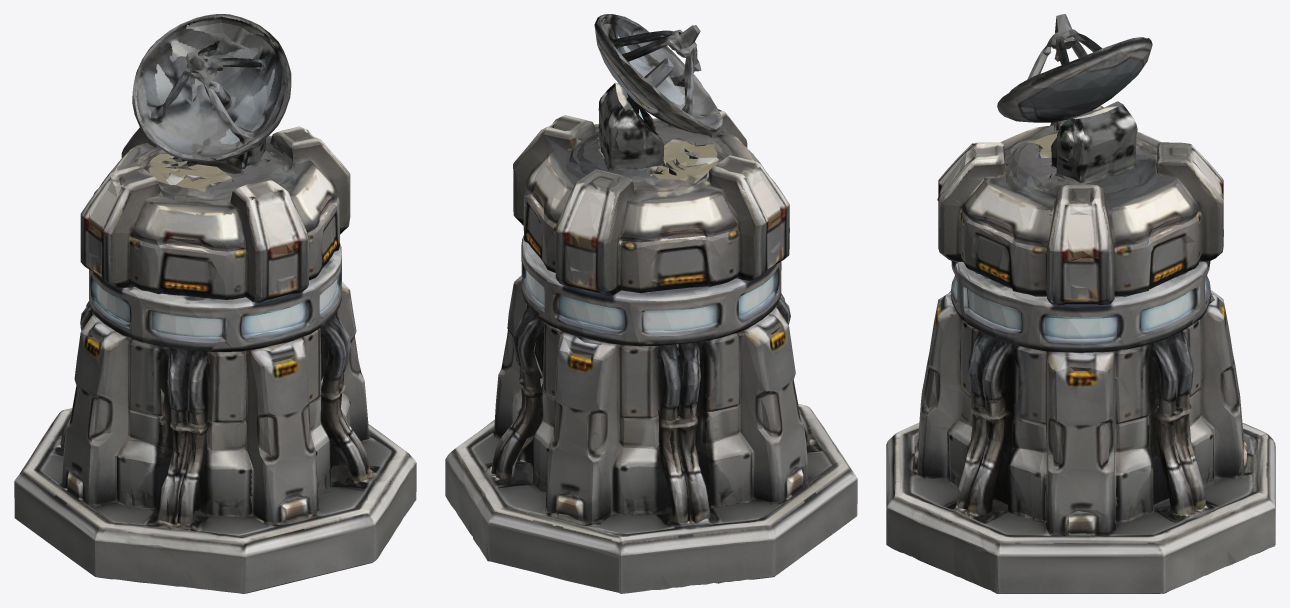
File: objective.glb
3 views of the same model, side by side, from view 1: azimuth 30°, elevation 25°; view 2: azimuth 150°, elevation 25°; view 3: azimuth 270°, elevation 25° (orthographic). The views are drawn at different scales.
Visible parts, largest first — view 1: tmp7hksthit.ply; view 2: tmp7hksthit.ply; view 3: tmp7hksthit.ply.
Boxes of the visible parts, x1,y1,x2,y2 form: tmp7hksthit.ply: (14, 14, 416, 593); tmp7hksthit.ply: (445, 14, 857, 593); tmp7hksthit.ply: (886, 14, 1275, 593).
Bounding box in the file's own units: 0.7105 × 1 × 0.7246.
Materials: 1 (1 with a texture image).
